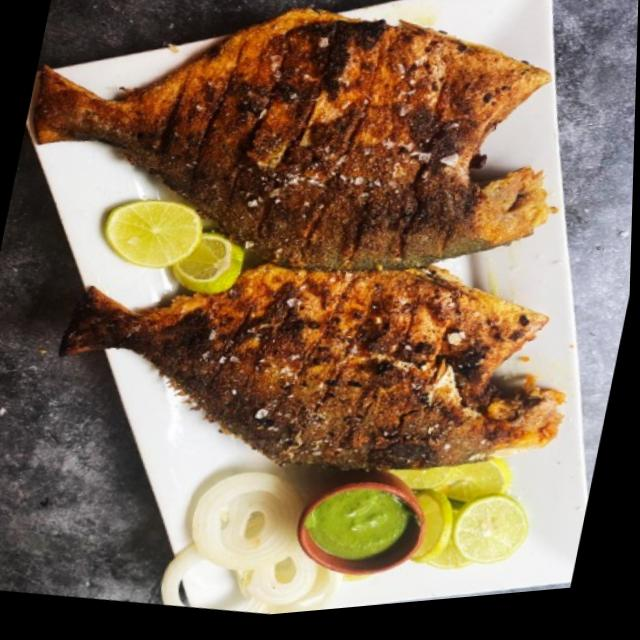FISH FRY: (31, 12, 563, 476)
